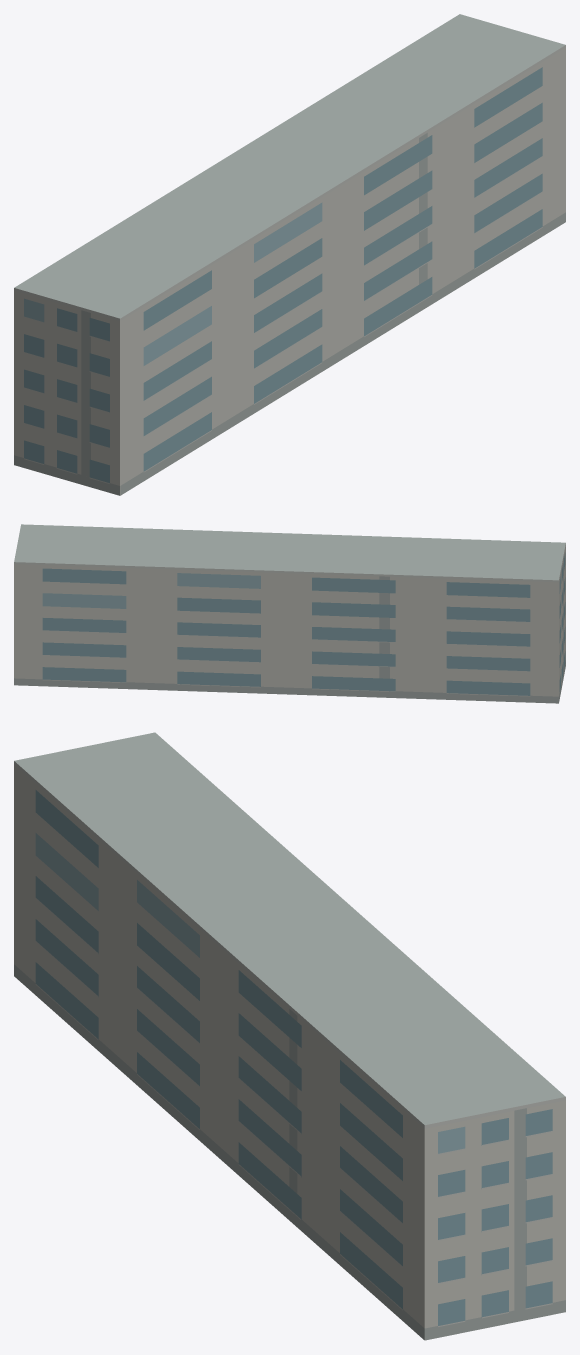
The model's file is residential-6f802e29-4821-488c-b067-09fc94453488.glb.
The picture shows the model from 3 angles, top to bottom: view 1: azimuth 30°, elevation 25°; view 2: azimuth 150°, elevation 25°; view 3: azimuth 270°, elevation 25°; orthographic projection. The views are drawn at different scales.
Parts seen in each view (by area): view 1: residential-6f802e29-4821-488c-b067-09fc94453488.tmp; view 2: residential-6f802e29-4821-488c-b067-09fc94453488.tmp; view 3: residential-6f802e29-4821-488c-b067-09fc94453488.tmp.
Boxes of the visible parts, x1=… form: residential-6f802e29-4821-488c-b067-09fc94453488.tmp: x1=14, y1=14, x2=565, y2=495; residential-6f802e29-4821-488c-b067-09fc94453488.tmp: x1=14, y1=524, x2=565, y2=703; residential-6f802e29-4821-488c-b067-09fc94453488.tmp: x1=14, y1=732, x2=565, y2=1340.
Size of the model in its own units: 59.68 by 15.25 by 35.43.
